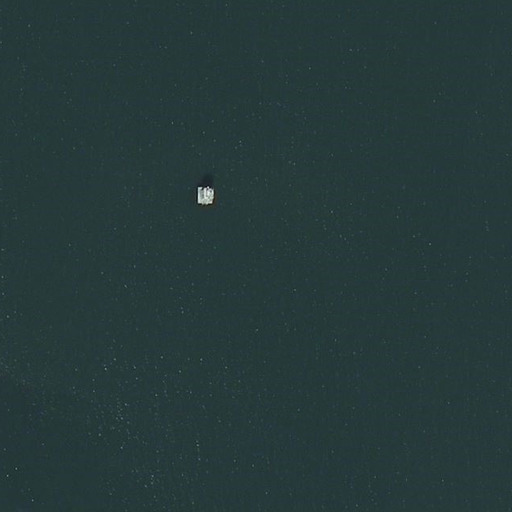ship: (196, 180, 216, 209)
